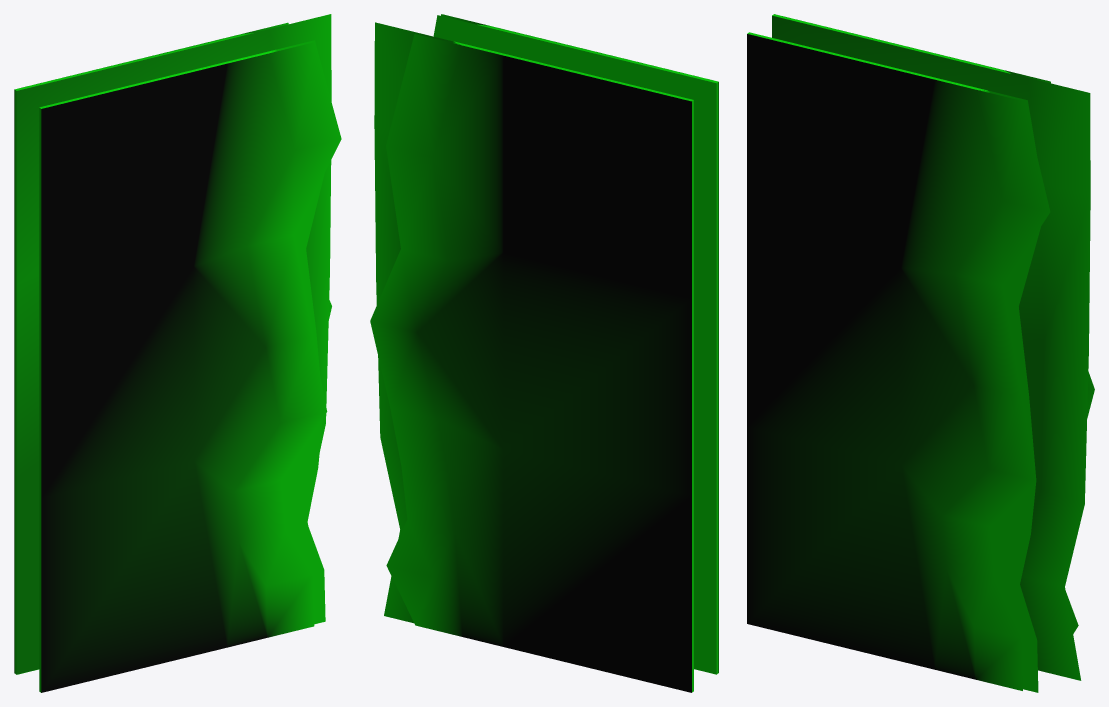
File: DBK_Plywood_Side_B.fbx
The picture shows the model from 3 angles, left to right: view 1: azimuth 30°, elevation 25°; view 2: azimuth 150°, elevation 25°; view 3: azimuth 330°, elevation 25°; orthographic projection.
Parts seen in each view (by area): view 1: DBK_Plywood_Side_B; view 2: DBK_Plywood_Side_B; view 3: DBK_Plywood_Side_B.
Boxes of the visible parts, box(x1,y1,x2,y2) form: DBK_Plywood_Side_B: box(14, 14, 341, 692); DBK_Plywood_Side_B: box(370, 14, 718, 692); DBK_Plywood_Side_B: box(747, 14, 1094, 692).
Size of what is drawn, in the model's own units: 171 by 300 by 24.98.
